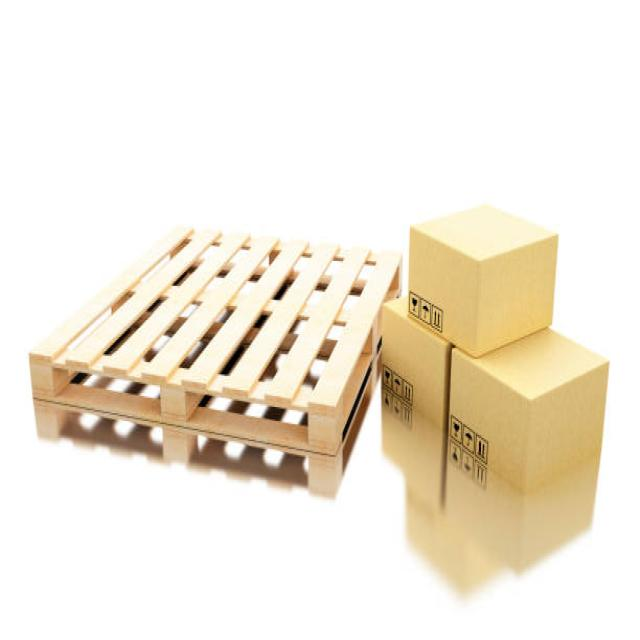Wooden-Pallets: (28, 216, 403, 494)
